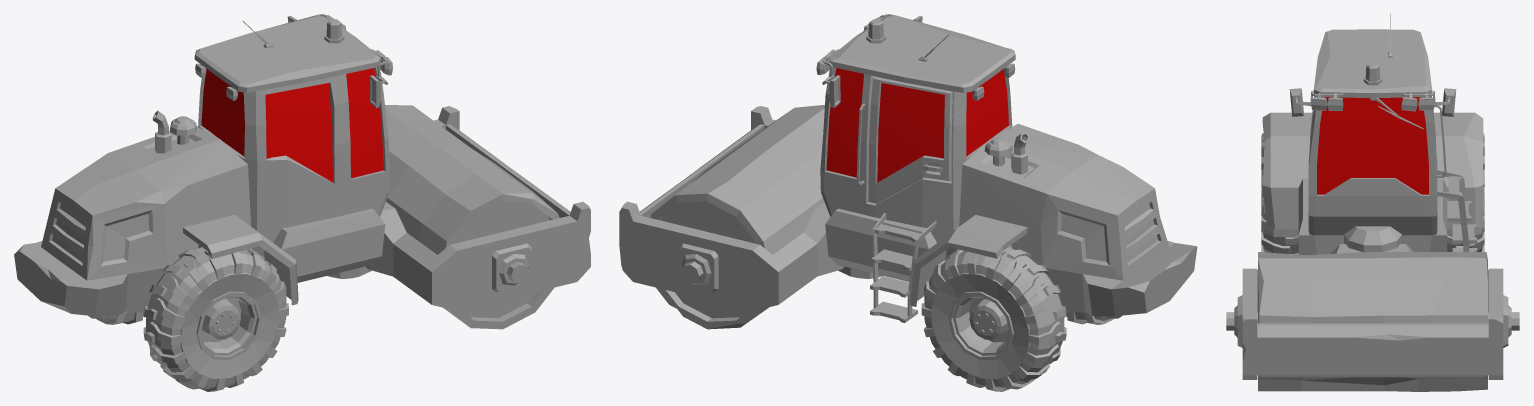
File: SK_Veh_Roller_01.fbx
3 renders of one model, left to right at view 1: azimuth 30°, elevation 25°; view 2: azimuth 150°, elevation 25°; view 3: azimuth 270°, elevation 25°, orthographic. The views are drawn at different scales.
Visible parts, largest first — view 1: SK_Veh_Roller_01, SK_Veh_Roller_01_Roller, SK_Veh_Roller_01_Wheel_rr, SK_Veh_Roller_01_Front, SK_Veh_Roller_01_Glass; view 2: SK_Veh_Roller_01, SK_Veh_Roller_01_Roller, SK_Veh_Roller_01_Wheel_rl, SK_Veh_Roller_01_Front, SK_Veh_Roller_01_Glass; view 3: SK_Veh_Roller_01, SK_Veh_Roller_01_Roller, SK_Veh_Roller_01_Front, SK_Veh_Roller_01_Glass, SK_Veh_Roller_01_Wheel_rr, SK_Veh_Roller_01_Wheel_rl.
Part boxes in pixels (x1,y1,x2,y2): SK_Veh_Roller_01: [14, 14, 392, 316]; SK_Veh_Roller_01_Roller: [385, 105, 559, 329]; SK_Veh_Roller_01_Wheel_rr: [143, 245, 288, 391]; SK_Veh_Roller_01_Front: [327, 106, 590, 310]; SK_Veh_Roller_01_Glass: [201, 68, 383, 182]; SK_Veh_Roller_01: [816, 14, 1197, 322]; SK_Veh_Roller_01_Roller: [650, 104, 824, 329]; SK_Veh_Roller_01_Wheel_rl: [921, 245, 1066, 391]; SK_Veh_Roller_01_Front: [619, 106, 882, 310]; SK_Veh_Roller_01_Glass: [826, 68, 1008, 182]; SK_Veh_Roller_01: [1262, 14, 1483, 255]; SK_Veh_Roller_01_Roller: [1258, 252, 1487, 391]; SK_Veh_Roller_01_Front: [1226, 226, 1519, 379]; SK_Veh_Roller_01_Glass: [1317, 97, 1428, 194]; SK_Veh_Roller_01_Wheel_rr: [1261, 133, 1298, 254]; SK_Veh_Roller_01_Wheel_rl: [1447, 133, 1484, 251].
Bounding box in the file's own units: 649 × 392 × 366.
